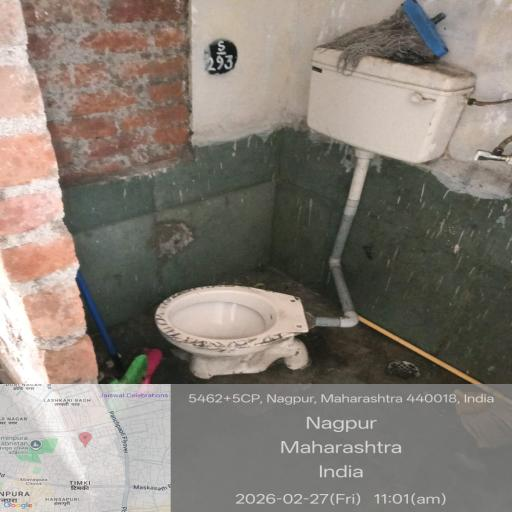dirty_western: (114, 244, 349, 380)
partial_dirty_floor: (17, 18, 484, 224), (71, 384, 512, 512)
